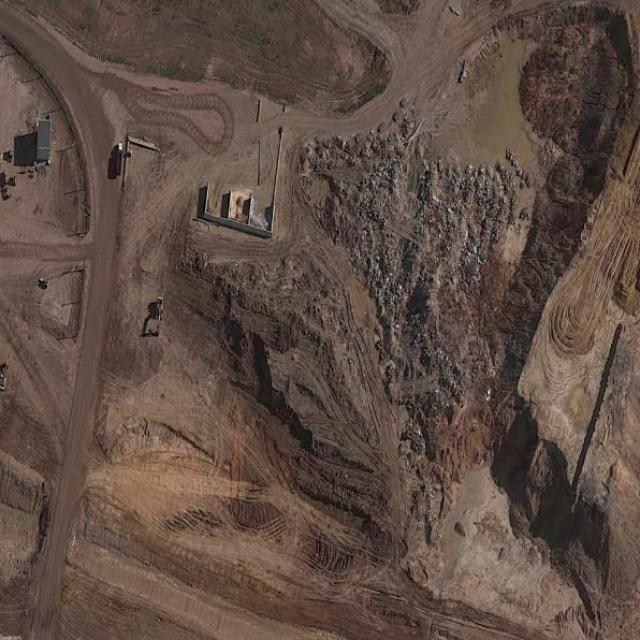dump_site: (272, 22, 538, 414)
